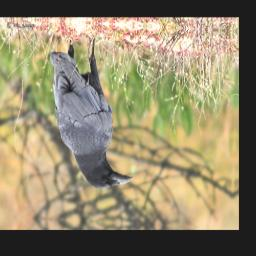Crow: (43, 32, 137, 191)
